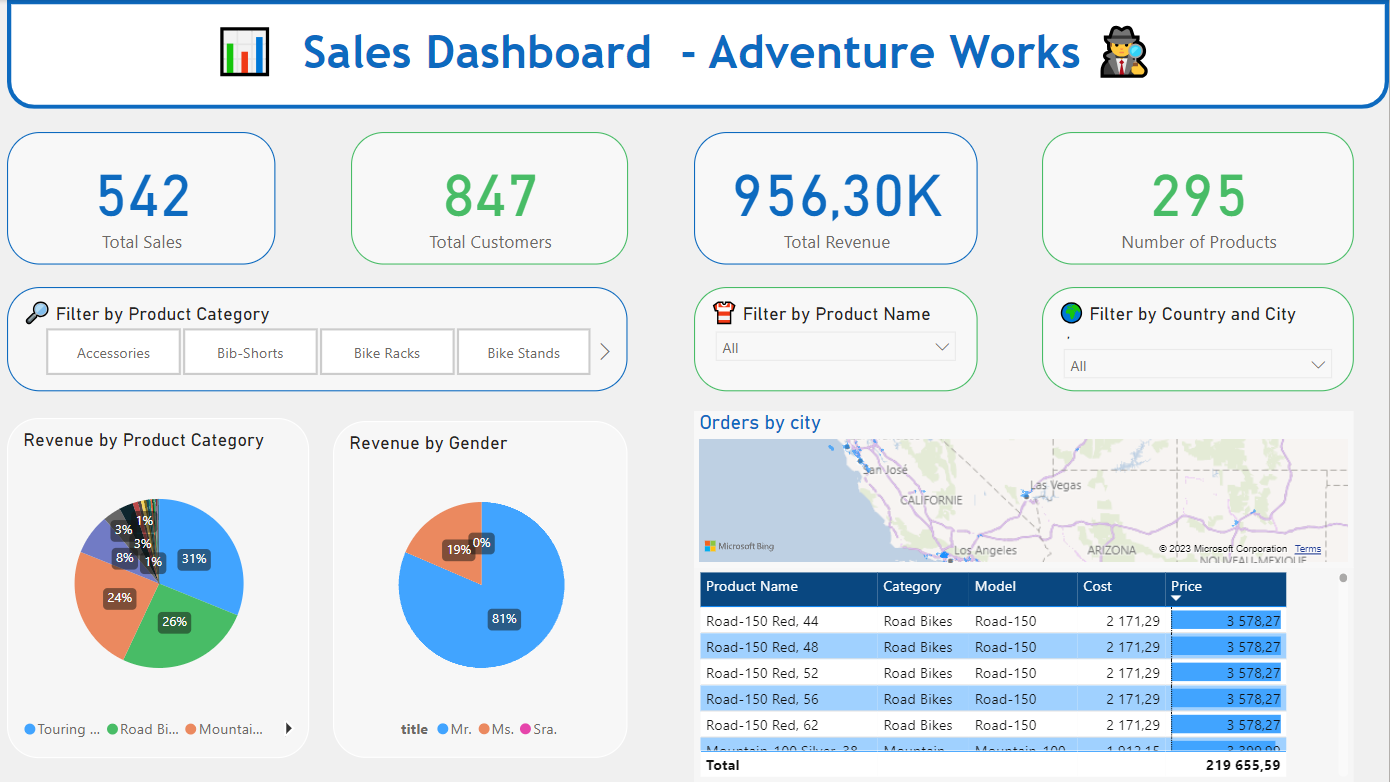

This screenshot's page, from the dashboard's own definition file:
{"tool":"powerbi","page":{"name":"Dashboard","canvas":[1280,720],"ordinal":0},"visuals":[{"type":"card","fields":{"Values":["CountNonNull(SalesOrderDetail.sales_order_id)"]},"box":[8.3,121.5,246.6,122.4],"z":0},{"type":"shape","box":[8.3,0,1271.7,100.3],"z":1000},{"type":"textbox","box":[194.2,12,886.2,76.4],"z":3000},{"type":"slicer","title":"👕 Filter by Product Name","fields":{"Values":["Product.name"]},"box":[640.5,264.1,261.3,95.7],"z":4000},{"type":"slicer","title":"🌍 Filter by Country and City","fields":{"Values":["address.country_region","address.city"]},"box":[960.7,264.1,287.1,95.7],"z":5000},{"type":"slicer","title":"🔎 Filter by Product Category","fields":{"Values":["ProductCategory.name"]},"box":[8.3,264.1,571.4,95.7],"z":6000},{"type":"card","fields":{"Values":["Sum(SalesOrderHeader.total_due)"]},"box":[640.5,121.5,261.3,122.4],"z":7000},{"type":"card","fields":{"Values":["CountNonNull(Product.product_id)"]},"box":[960.7,121.5,287.1,122.4],"z":8000},{"type":"filledMap","fields":{"Category":["address.city"]},"box":[640.5,378.2,607.3,143.6],"z":9000},{"type":"card","fields":{"Values":["CountNonNull(Customer.customer_id)"]},"box":[324.8,121.5,254.9,122.4],"z":10000},{"type":"tableEx","fields":{"Values":["Product.name","ProductCategory.name","ProductModel.name","Product.standard_cost","Sum(Product.list_price)"]},"box":[640.5,521.8,607.3,197.8],"z":11000},{"type":"pieChart","title":"Revenue by Product Category","fields":{"Category":["ProductCategory.name"],"Y":["Sum(SalesOrderDetail.line_total)"]},"box":[8.3,384.6,277.9,312.9],"z":11001},{"type":"pieChart","title":"Revenue by Gender","fields":{"Category":["Customer.title"],"Y":["Sum(SalesOrderDetail.line_total)"]},"box":[308.3,387.4,271.5,310.1],"z":11002}]}

Visuals, with their boxes in screenshot pixels (x1, y1, x2, y2), scaled from the page's 1280x720 canvas onto the 1390x782 screenshot:
card - CountNonNull(SalesOrderDetail.sales_order_id): rect(9, 132, 277, 265)
shape: rect(9, 0, 1389, 109)
textbox: rect(211, 13, 1173, 96)
"👕 Filter by Product Name" slicer: rect(696, 287, 979, 391)
"🌍 Filter by Country and City" slicer: rect(1043, 287, 1355, 391)
"🔎 Filter by Product Category" slicer: rect(9, 287, 630, 391)
card - Sum(SalesOrderHeader.total_due): rect(696, 132, 979, 265)
card - CountNonNull(Product.product_id): rect(1043, 132, 1355, 265)
filledMap - address.city: rect(696, 411, 1355, 567)
card - CountNonNull(Customer.customer_id): rect(353, 132, 630, 265)
tableEx - Product.name x ProductCategory.name: rect(696, 567, 1355, 781)
"Revenue by Product Category" pieChart: rect(9, 418, 311, 758)
"Revenue by Gender" pieChart: rect(335, 421, 630, 758)
